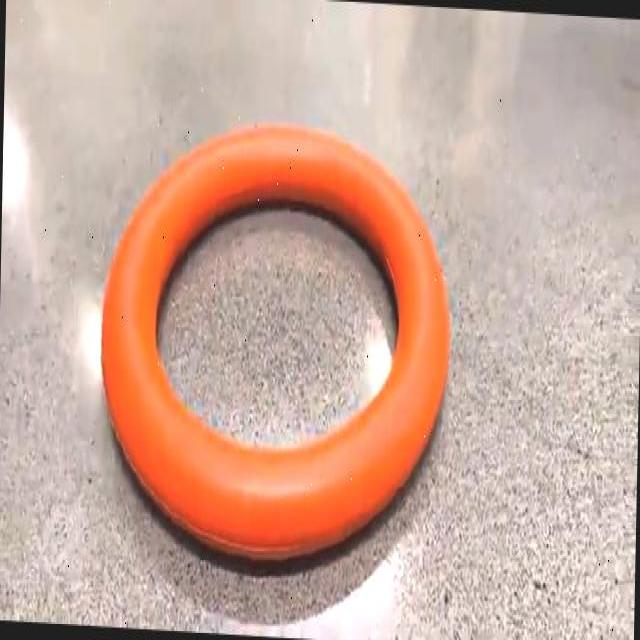note: (102, 126, 449, 559)
